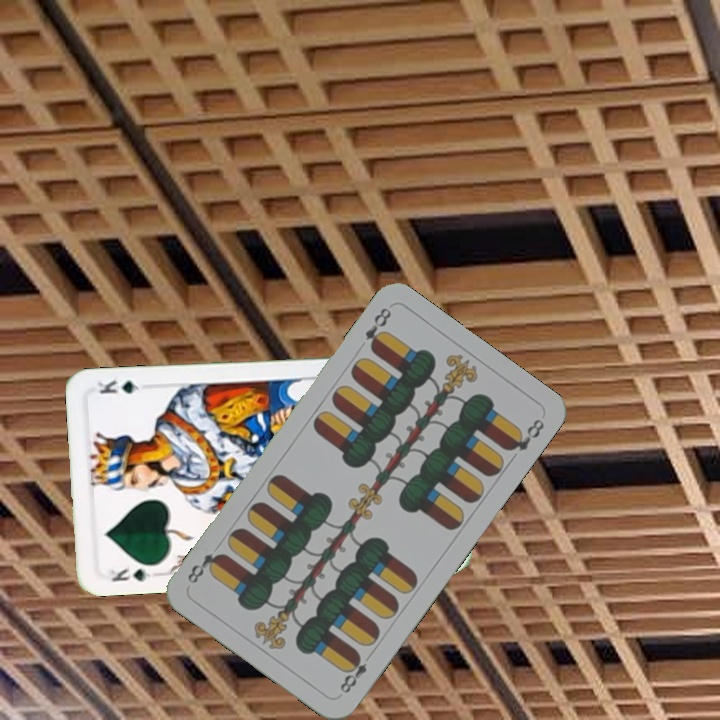E8: (361, 303, 394, 354), (335, 649, 370, 696)
GK: (106, 564, 153, 584)
